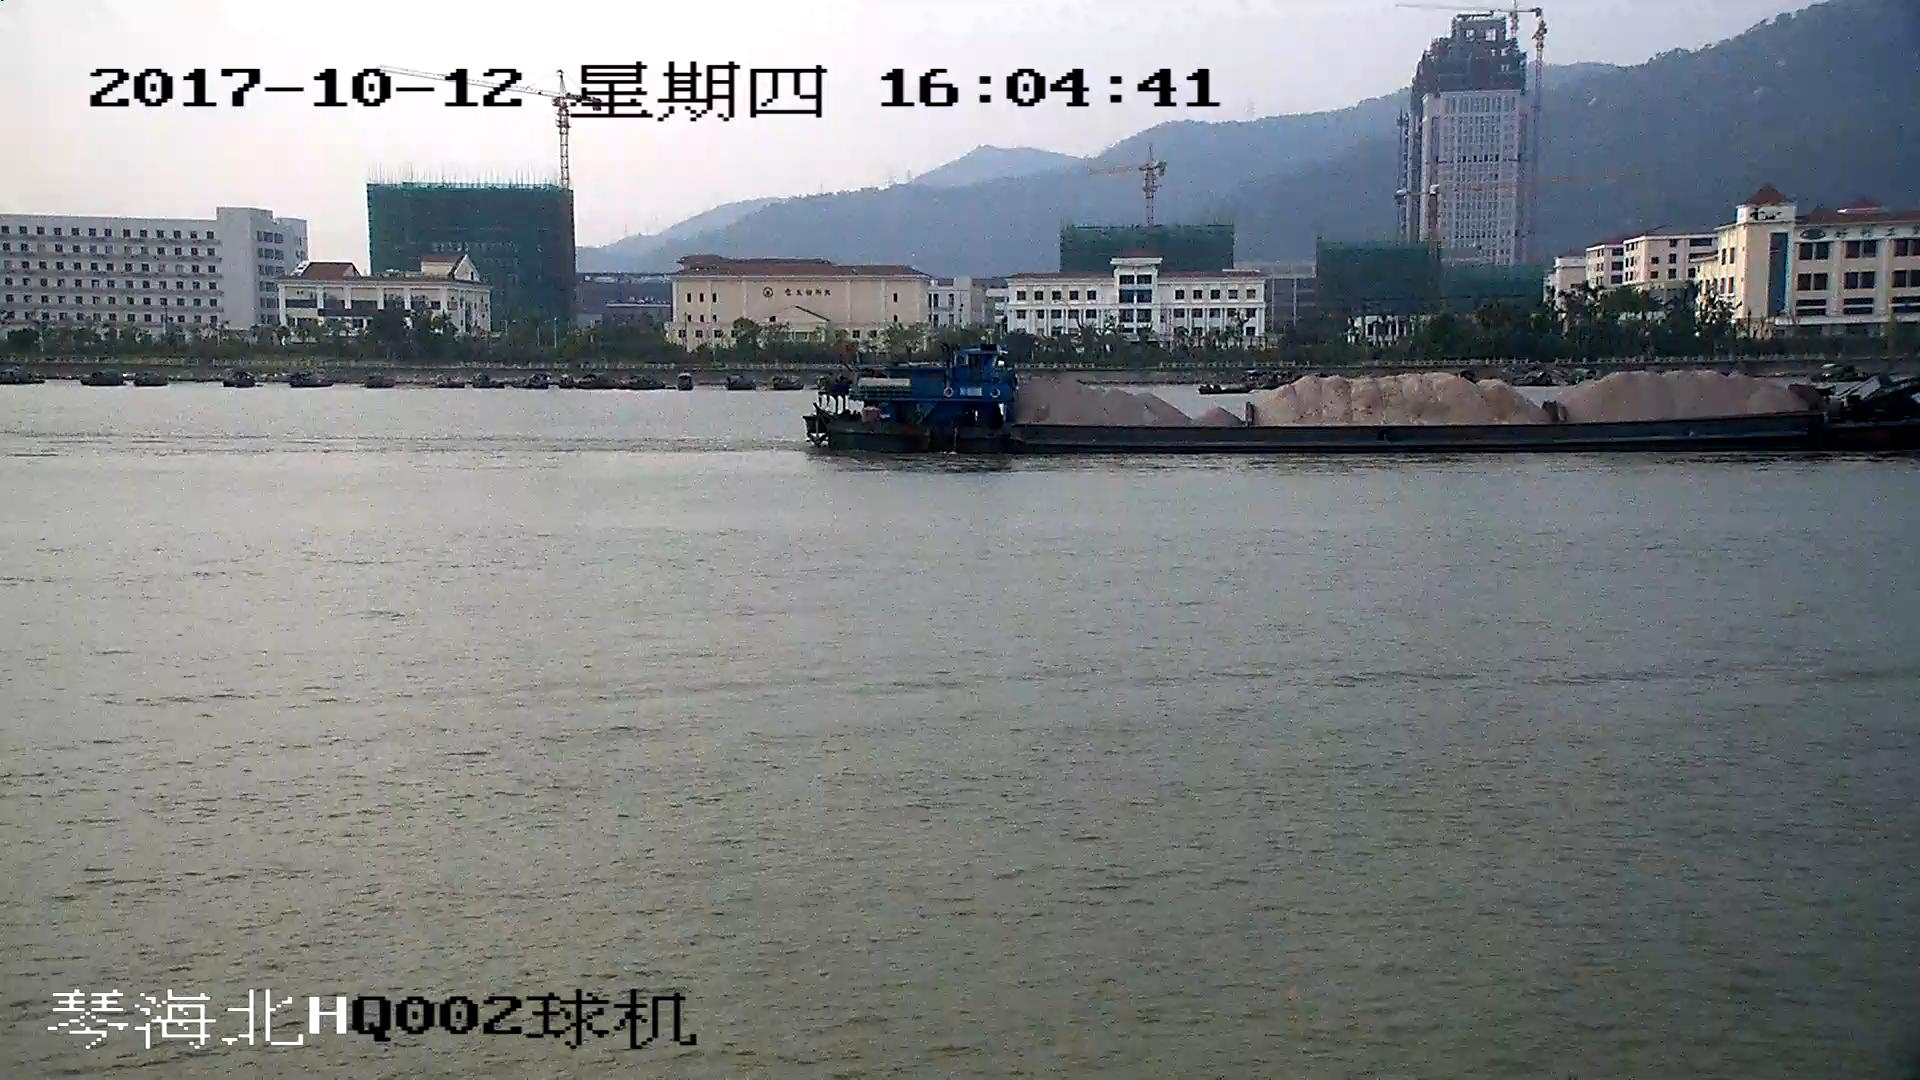ore carrier: (797, 334, 1920, 457)
